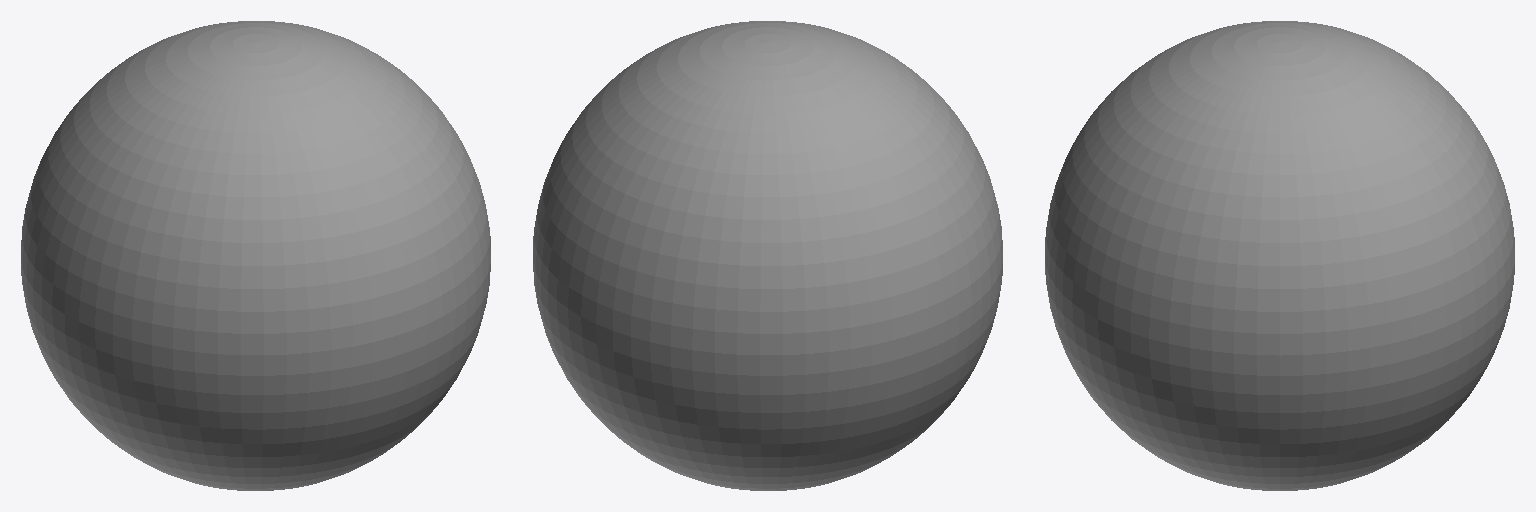
File: jupiter.obj
3 views of the same model, side by side, from view 1: azimuth 30°, elevation 25°; view 2: azimuth 150°, elevation 25°; view 3: azimuth 270°, elevation 25° (orthographic).
Parts seen in each view (by area): view 1: Sphere; view 2: Sphere; view 3: Sphere.
Part boxes in pixels (x1,y1,x2,y2): Sphere: (21,21,490,490); Sphere: (533,21,1002,490); Sphere: (1045,21,1514,490).
Size of the model in its own units: 140 by 140 by 140.